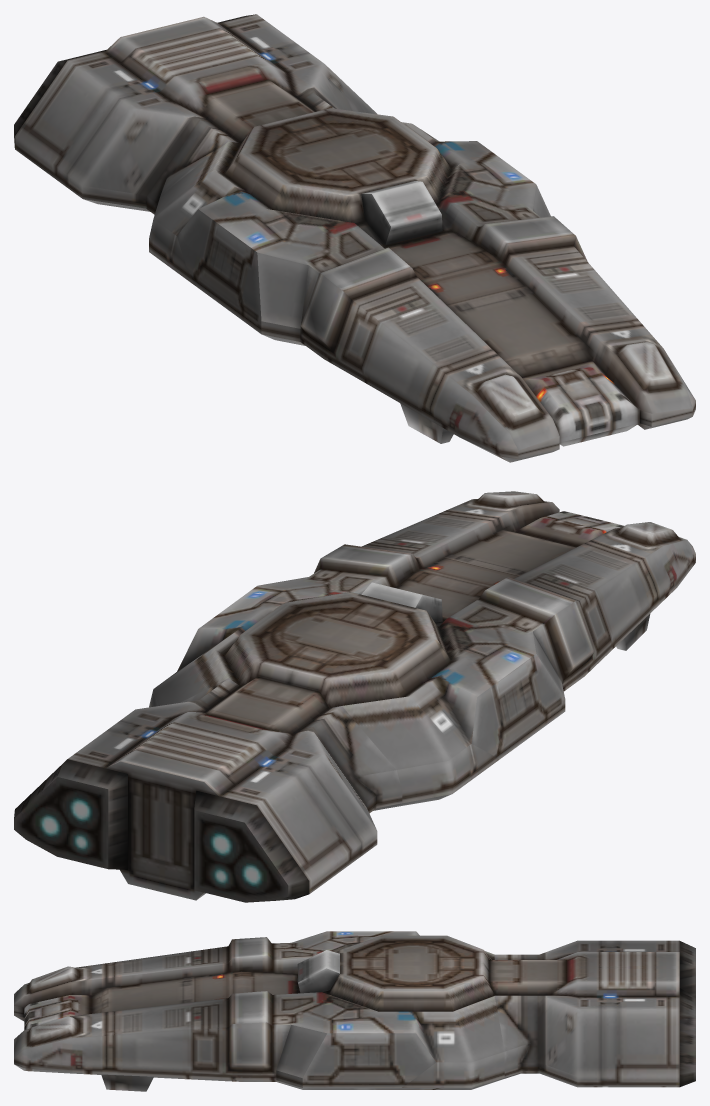
Rendered from hgn_sc_puls_01_t1.glb.
The picture shows the model from 3 angles, top to bottom: view 1: azimuth 30°, elevation 25°; view 2: azimuth 150°, elevation 25°; view 3: azimuth 270°, elevation 25°; orthographic projection. The views are drawn at different scales.
Visible parts, largest first — view 1: hgn_pulsar_corvette_01_LOD0; view 2: hgn_pulsar_corvette_01_LOD0; view 3: hgn_pulsar_corvette_01_LOD0.
Boxes of the visible parts, x1,y1,x2,y2 form: hgn_pulsar_corvette_01_LOD0: [14, 14, 695, 462]; hgn_pulsar_corvette_01_LOD0: [14, 491, 695, 902]; hgn_pulsar_corvette_01_LOD0: [14, 931, 695, 1091].
Size of what is drawn, in the model's own units: 0.2437 by 0.1009 by 0.6316.
Materials: 1 (1 with a texture image).
